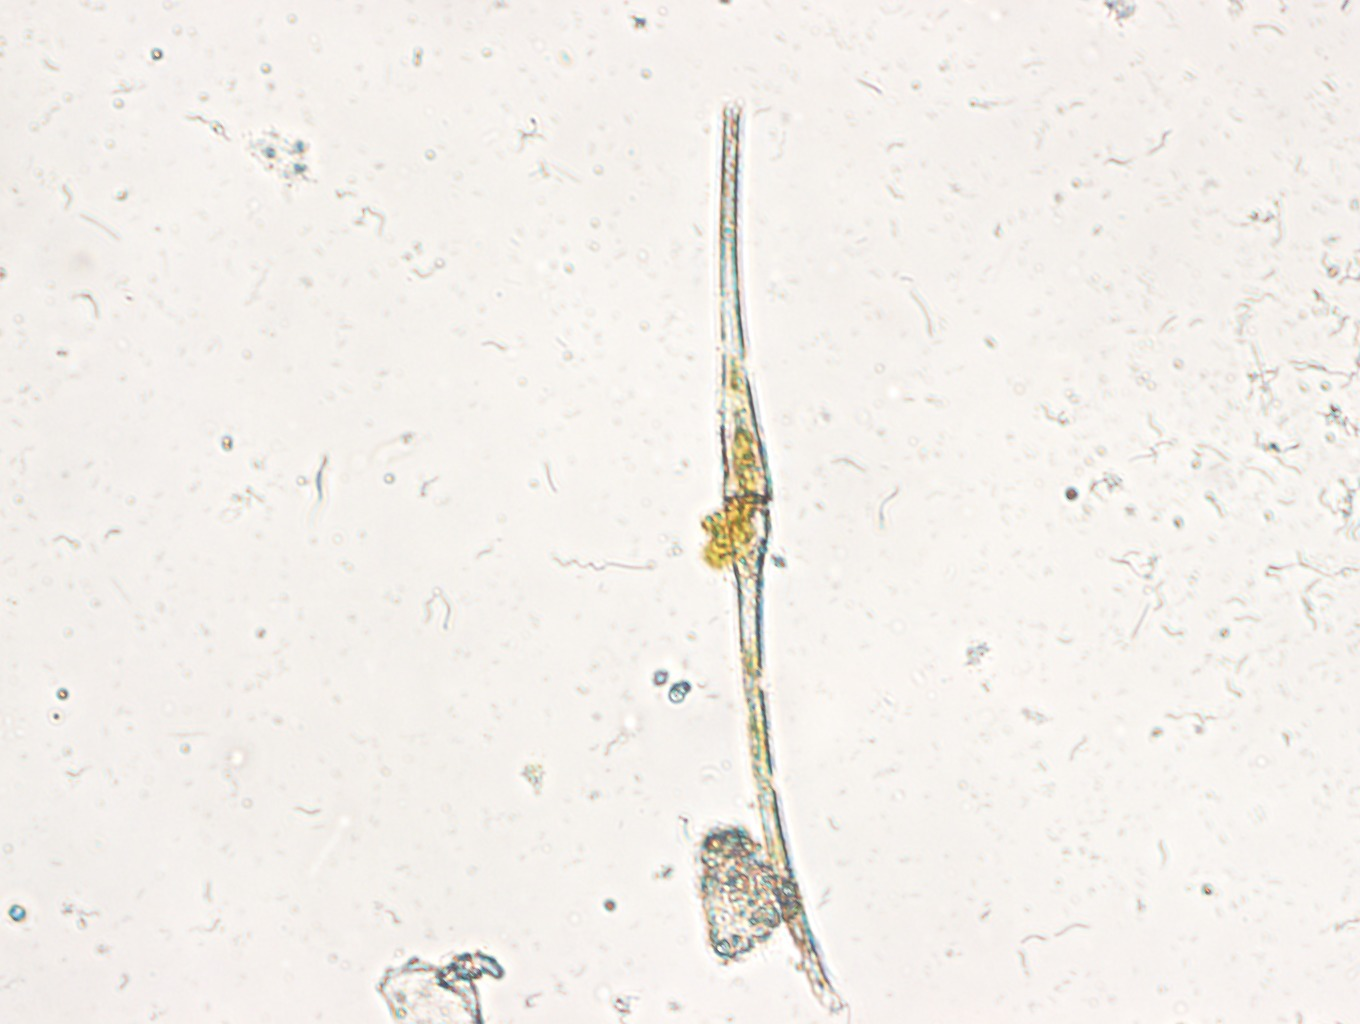ceratium fusus: (696, 90, 876, 1018)
